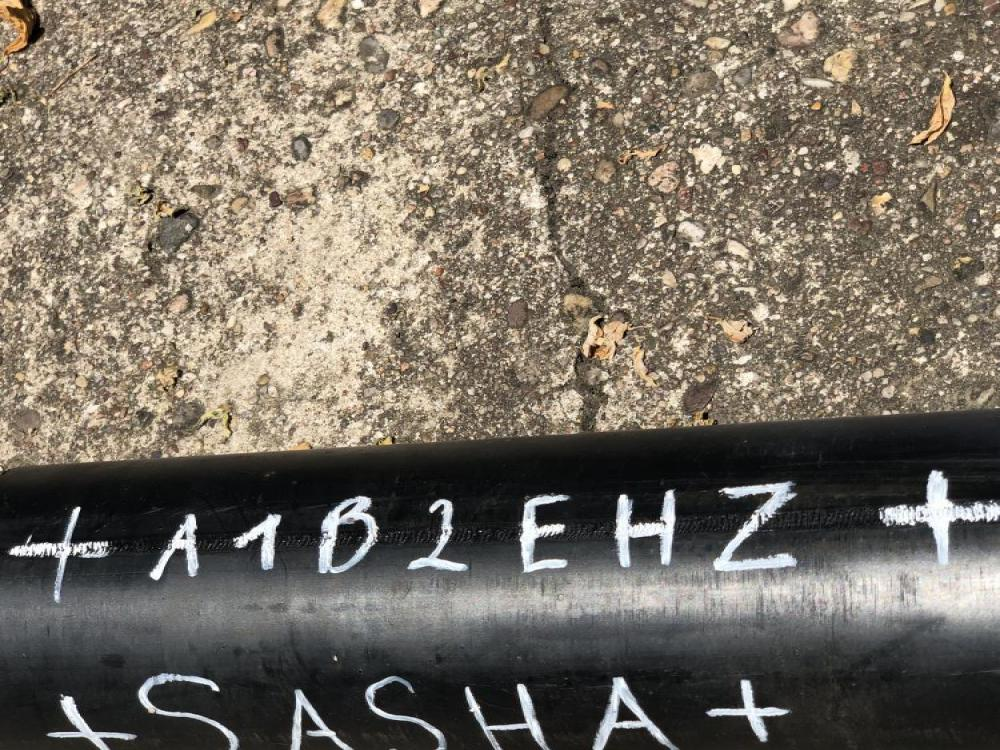+: (879, 468, 999, 566), (8, 507, 112, 603), (708, 679, 792, 742), (47, 695, 137, 749)
1: (235, 514, 281, 571)
2: (407, 500, 470, 572)
A: (592, 677, 677, 749), (290, 688, 355, 749), (148, 514, 202, 580)
B: (319, 496, 380, 576)
E: (521, 494, 569, 574)
H: (613, 490, 675, 568)
Z: (137, 672, 243, 749), (711, 482, 799, 571)
